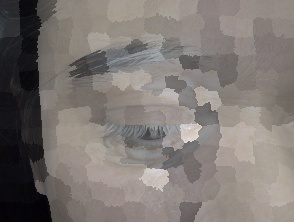vitiligo: (54, 13, 251, 201)
